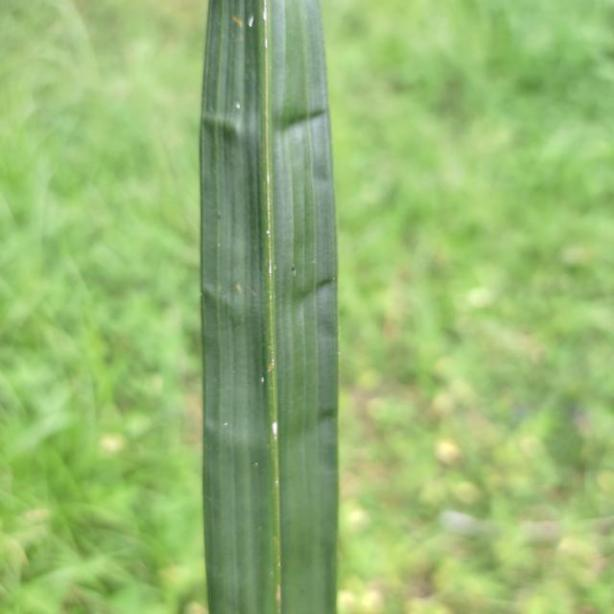Boron: (202, 0, 340, 614)
